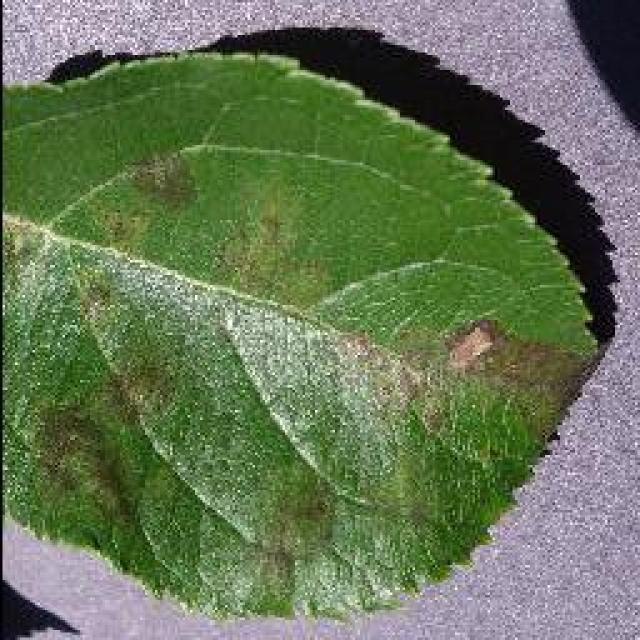Apple___Apple_scab: (0, 46, 603, 625)
